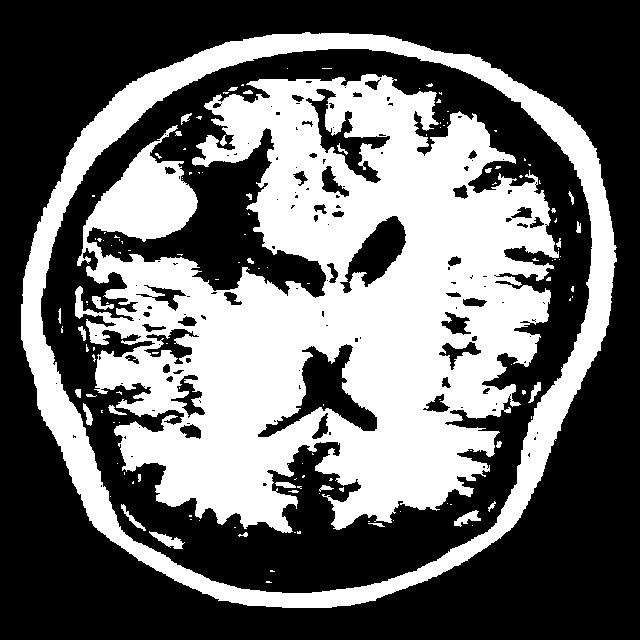Brain-Tumor: (72, 138, 227, 264)
